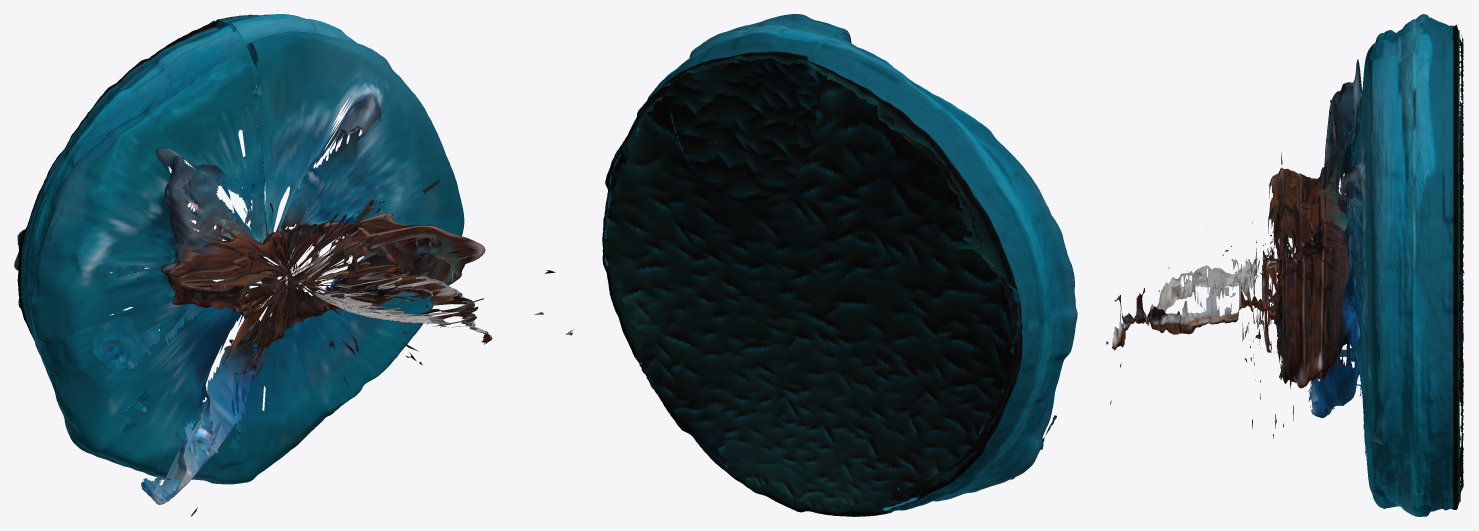
File: detail_mesh.glb
The picture shows the model from 3 angles, left to right: view 1: azimuth 30°, elevation 25°; view 2: azimuth 150°, elevation 25°; view 3: azimuth 270°, elevation 25°; orthographic projection. The views are drawn at different scales.
Parts seen in each view (by area): view 1: ipn, fill; view 2: fill, ipn; view 3: ipn, fill.
Boxes of the visible parts, bbox=[...] form: ipn: bbox=[14, 14, 573, 516]; fill: bbox=[18, 57, 453, 503]; fill: bbox=[602, 58, 1056, 510]; ipn: bbox=[602, 14, 1077, 516]; ipn: bbox=[1106, 14, 1459, 516]; fill: bbox=[1260, 34, 1464, 502].
Bounding box in the file's own units: 1.84 × 1.69 × 1.15.
Materials: 2 (1 with a texture image).
